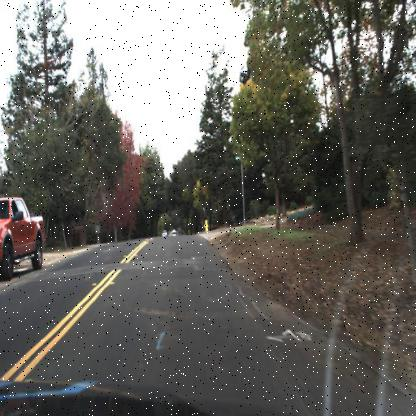car: (0, 195, 48, 281), (170, 228, 181, 242), (160, 226, 167, 243)
